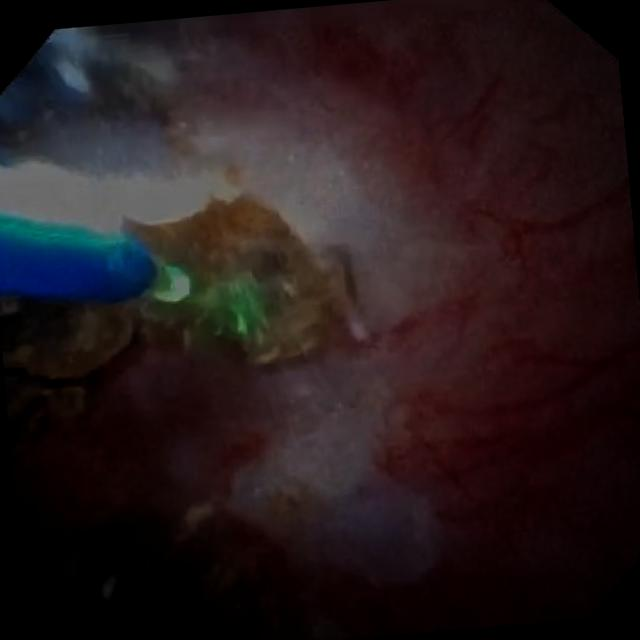laser-fibre: (145, 261, 188, 300)
laser_dot: (219, 280, 262, 334)
stone-new: (124, 196, 345, 361), (19, 519, 298, 640), (0, 300, 132, 379), (7, 375, 84, 455)
